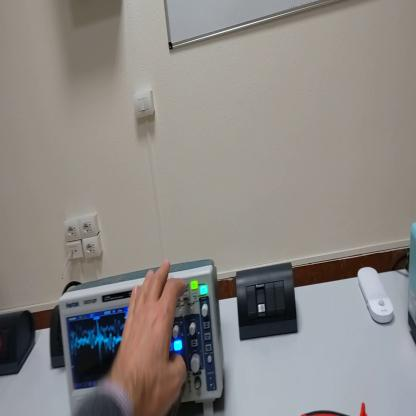hand: (111, 257, 190, 416)
oscilloscope: (59, 260, 228, 416)
socket: (2, 311, 36, 377), (49, 305, 66, 371)
welder station: (406, 222, 416, 345)
